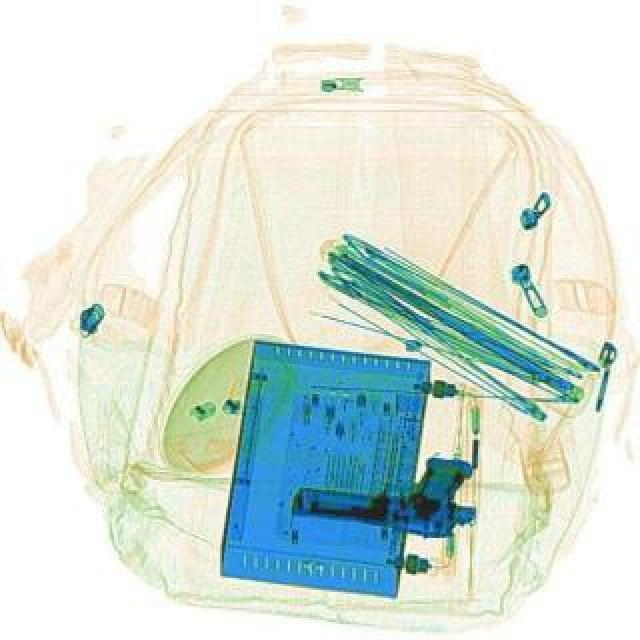gun: (288, 444, 484, 546)
